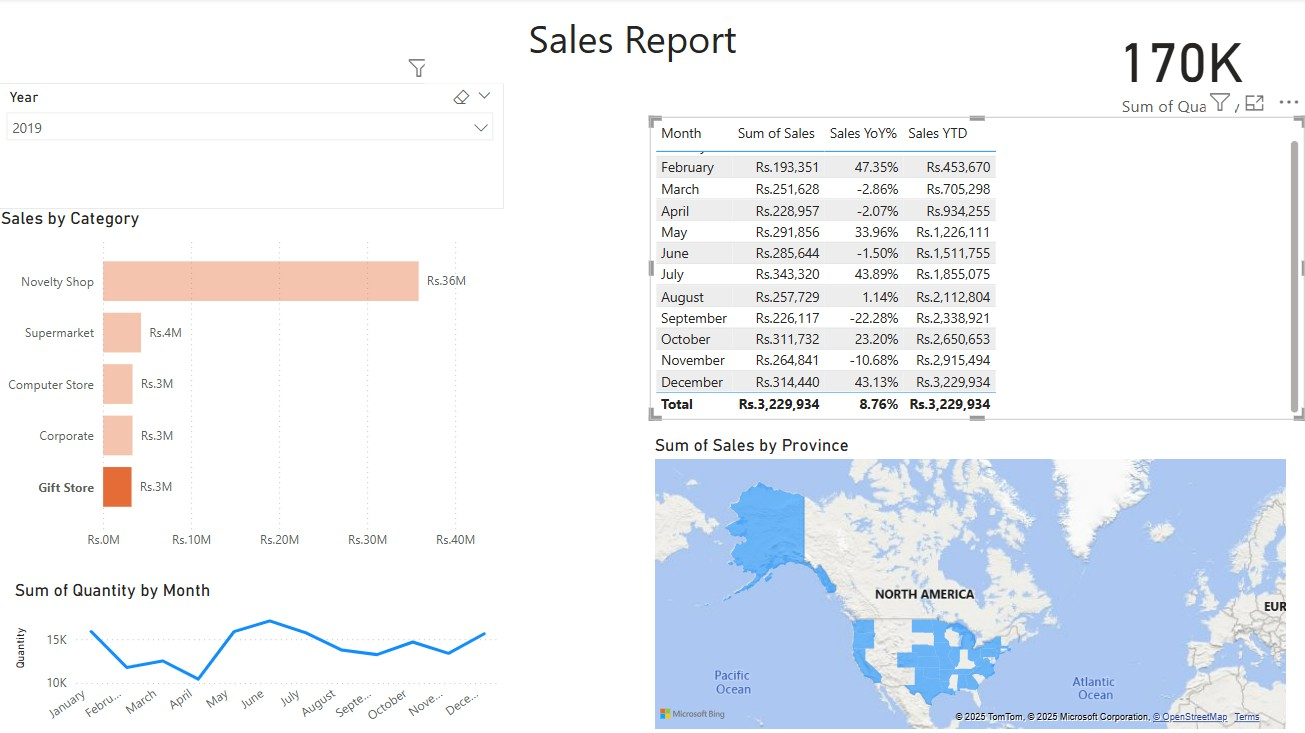

The dashboard page shown, as its layout file describes it:
{"tool":"powerbi","page":{"name":"Page 1","canvas":[1280,720],"ordinal":0},"visuals":[{"type":"clusteredBarChart","title":"Sales by Category","fields":{"Category":["MasterCustomer.CustomerCategoryName"],"Y":["Sum(InvoiceData.Sales)"]},"box":[0,206,497,343],"z":0},{"type":"slicer","fields":{"Values":["InvoiceData.Date.Variation.Date Hierarchy.Year"]},"box":[0,83.3,496.7,123.3],"z":1000},{"type":"tableEx","fields":{"Values":["InvoiceData.Date.Variation.Date Hierarchy.Month","Sum(InvoiceData.Sales)","InvoiceData.Sales YoY%","InvoiceData.Sales YTD"]},"box":[640,116.7,640,295],"z":2000},{"type":"filledMap","fields":{"Category":["MasterCustomer.Province"]},"box":[640,426.7,626.7,293.3],"z":3000},{"type":"lineChart","fields":{"Y":["Sum(InvoiceData.Quantity)"],"Category":["InvoiceData.Date.Variation.Date Hierarchy.Month"]},"box":[13.3,568.3,483.3,151.7],"z":4000},{"type":"textbox","box":[420,8.3,406.7,75],"z":5000},{"type":"card","fields":{"Values":["Sum(InvoiceData.Quantity)"]},"box":[1051.7,16.7,215,100],"z":6000}]}

Visuals, with their boxes in screenshot pixels (x1, y1, x2, y2), scaled from the page's 1280x720 canvas onto the 1305x733 screenshot:
"Sales by Category" clusteredBarChart: 0:210:507:559
slicer - InvoiceData.Date.Variation.Date Hierarchy.Year: 0:85:506:210
tableEx - InvoiceData.Date.Variation.Date Hierarchy.Month x Sum(InvoiceData.Sales): 652:119:1304:419
filledMap - MasterCustomer.Province: 652:434:1291:732
lineChart - Sum(InvoiceData.Quantity) x InvoiceData.Date.Variation.Date Hierarchy.Month: 14:579:506:732
textbox: 428:8:843:85
card - Sum(InvoiceData.Quantity): 1072:17:1291:119
